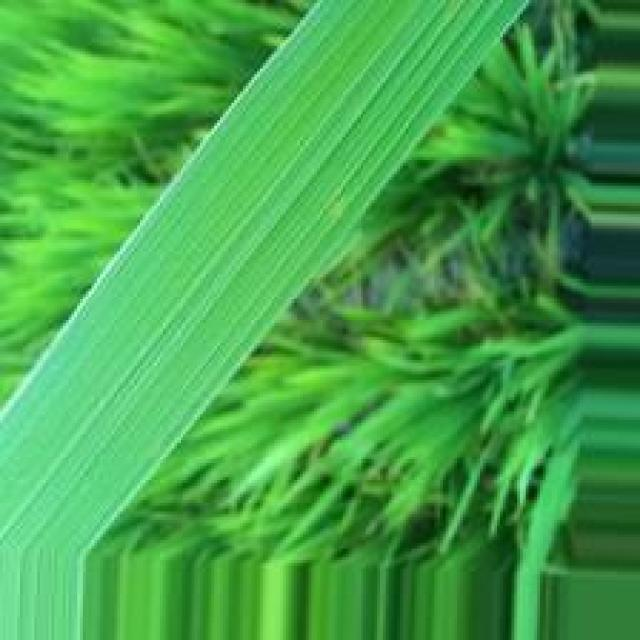HealthyLeaf: (5, 1, 526, 550)
